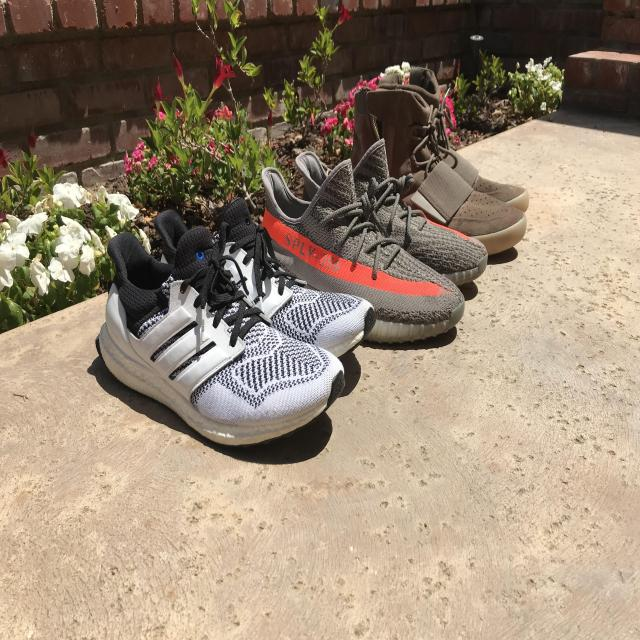shoe: (85, 188, 376, 474), (248, 134, 494, 356), (343, 55, 547, 275)
